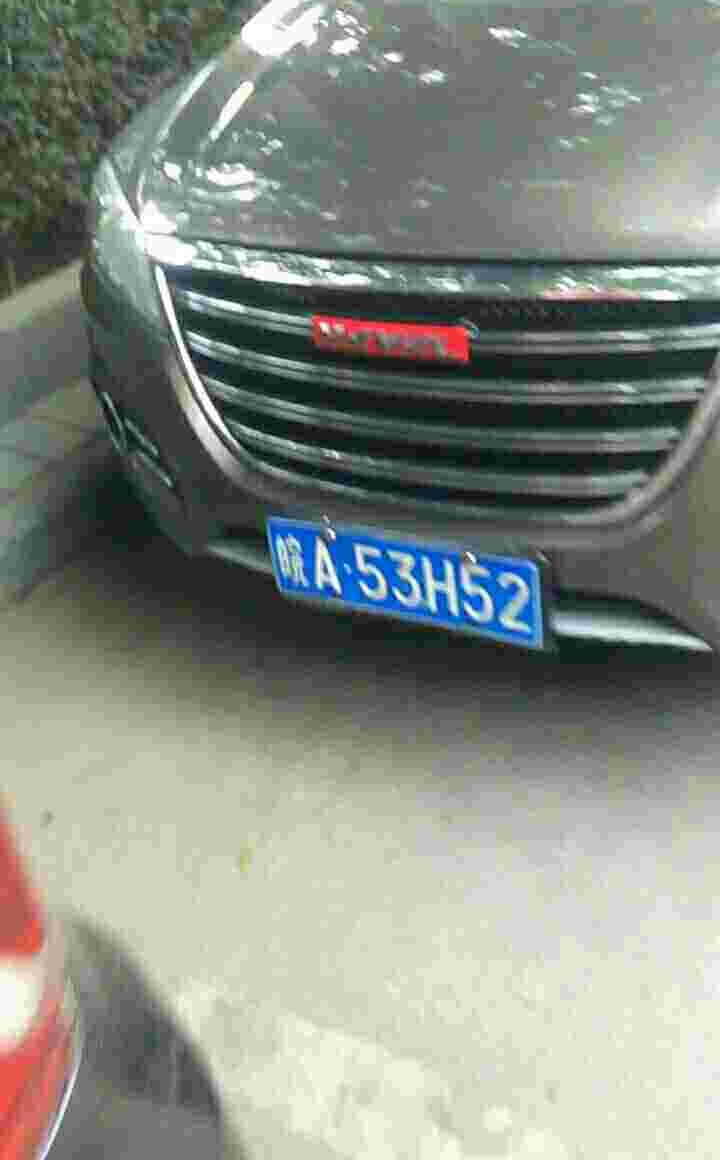license_plate: (271, 522, 547, 644)
